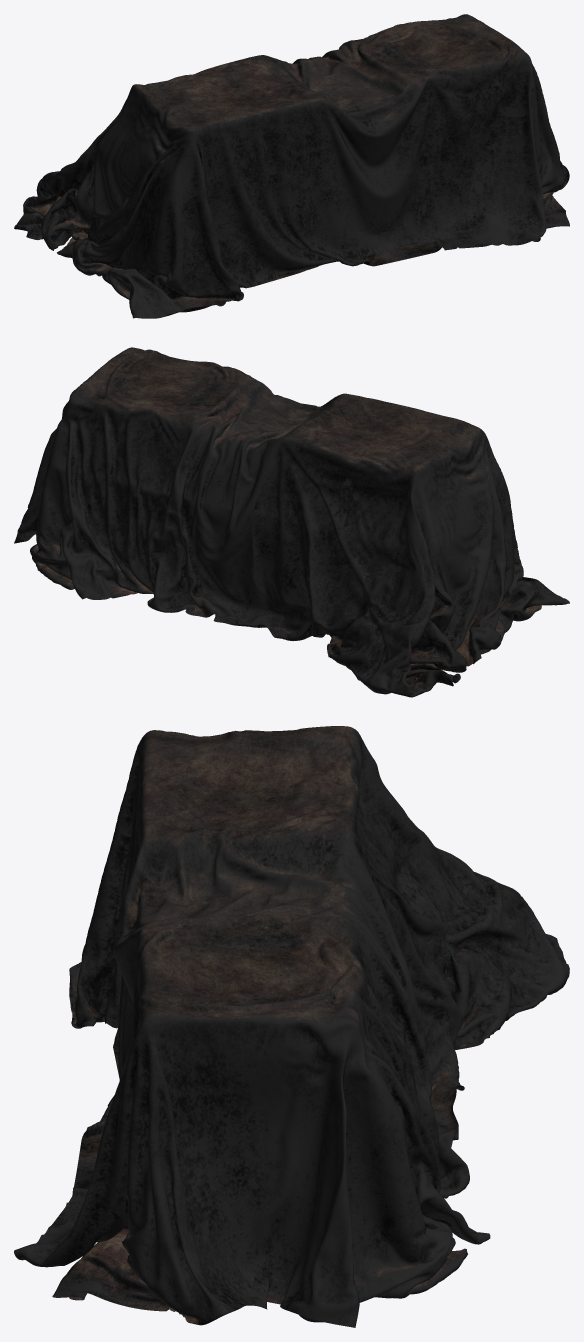
File: cloth_box-tarp_-_marmoka.glb
The picture shows the model from 3 angles, top to bottom: view 1: azimuth 30°, elevation 25°; view 2: azimuth 150°, elevation 25°; view 3: azimuth 270°, elevation 25°; orthographic projection. The views are drawn at different scales.
Parts seen in each view (by area): view 1: Clothe; view 2: Clothe; view 3: Clothe.
Boxes of the visible parts, bbox=[...] form: Clothe: bbox=[14, 14, 569, 318]; Clothe: bbox=[14, 347, 569, 697]; Clothe: bbox=[14, 726, 569, 1327].
Size of the model in its own units: 2.6 by 0.8655 by 1.55.
1 material, 1 textured.
